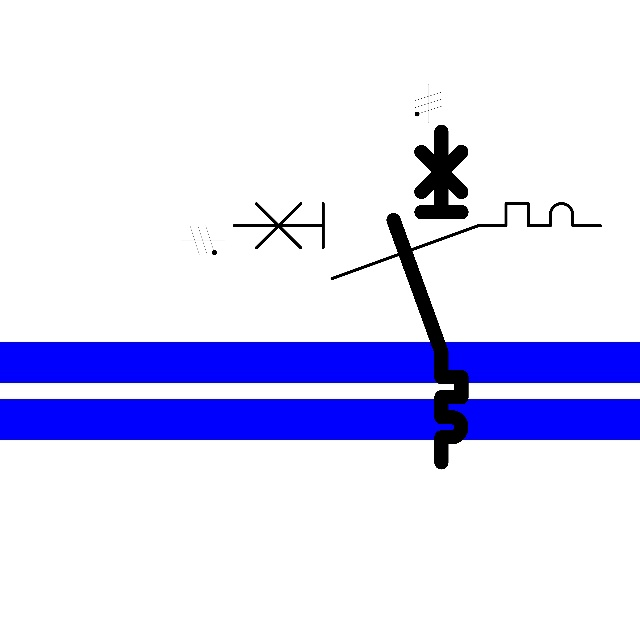interruptor_termomagnetico: (224, 194, 609, 288), (385, 123, 470, 471)
